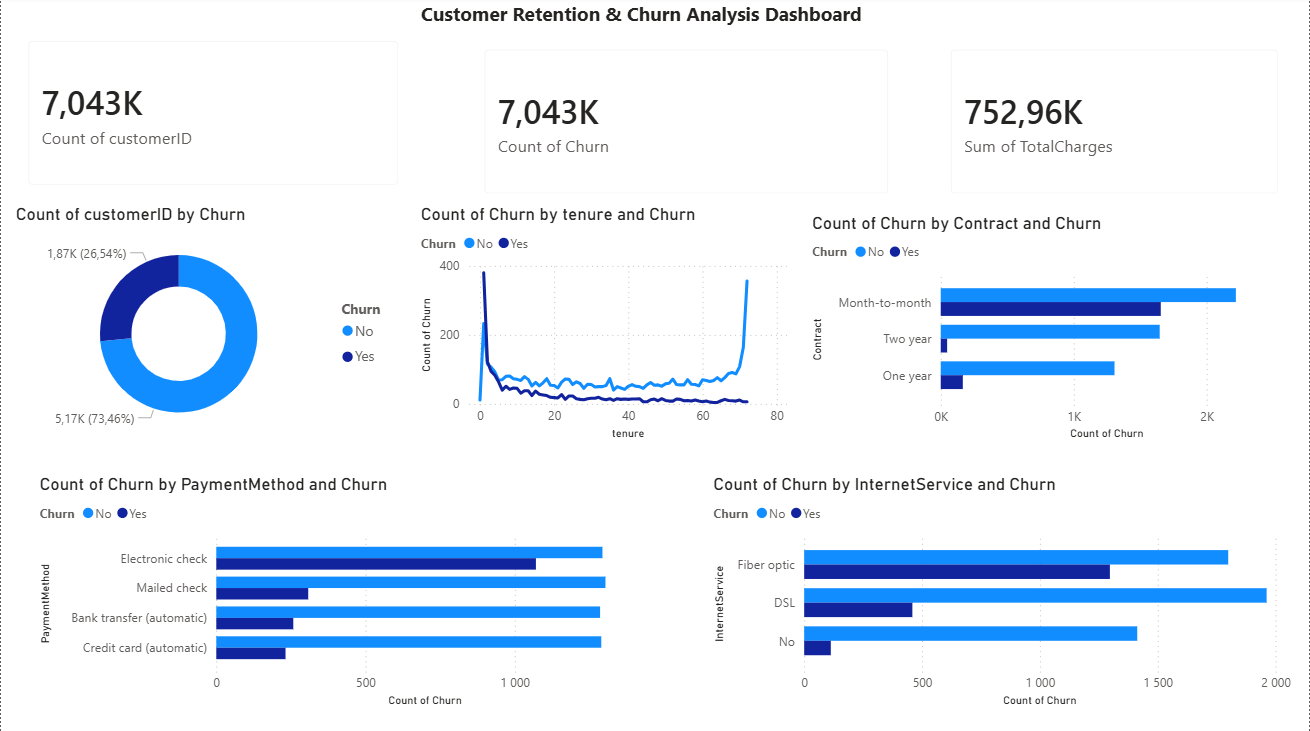

Layout of this report page (visuals, bound fields, positions):
{"tool":"powerbi","page":{"name":"Churn Dashboard","canvas":[1280,720],"ordinal":0},"visuals":[{"type":"cardVisual","fields":{"Data":["Count(WA_Fn-UseC_-Telco-Customer-Churn.customerID)"]},"box":[9.6,27.4,396.6,175.6],"z":0},{"type":"cardVisual","fields":{"Data":["CountNonNull(WA_Fn-UseC_-Telco-Customer-Churn.Churn)"]},"box":[455.6,35.7,429.5,175.6],"z":1},{"type":"cardVisual","fields":{"Data":["Sum(WA_Fn-UseC_-Telco-Customer-Churn.TotalCharges)"]},"box":[912.5,35.7,354,175.6],"z":2},{"type":"textbox","box":[406.2,0,465.2,35.7],"z":3},{"type":"donutChart","fields":{"Category":["WA_Fn-UseC_-Telco-Customer-Churn.Churn"],"Y":["CountNonNull(WA_Fn-UseC_-Telco-Customer-Churn.customerID)"]},"box":[9.8,203,386.4,236],"z":4},{"type":"clusteredBarChart","fields":{"Category":["WA_Fn-UseC_-Telco-Customer-Churn.Contract"],"Y":["CountNonNull(WA_Fn-UseC_-Telco-Customer-Churn.Churn)"],"Series":["WA_Fn-UseC_-Telco-Customer-Churn.Churn"]},"box":[789,211.3,467.9,227.8],"z":5},{"type":"lineChart","fields":{"Category":["WA_Fn-UseC_-Telco-Customer-Churn.tenure"],"Y":["CountNonNull(WA_Fn-UseC_-Telco-Customer-Churn.Churn)"],"Series":["WA_Fn-UseC_-Telco-Customer-Churn.Churn"]},"box":[406,203,368.1,236],"z":6},{"type":"clusteredBarChart","fields":{"Category":["WA_Fn-UseC_-Telco-Customer-Churn.PaymentMethod"],"Y":["CountNonNull(WA_Fn-UseC_-Telco-Customer-Churn.Churn)"],"Series":["WA_Fn-UseC_-Telco-Customer-Churn.Churn"]},"box":[32.9,466.6,606.5,233.3],"z":7},{"type":"clusteredBarChart","fields":{"Category":["WA_Fn-UseC_-Telco-Customer-Churn.InternetService"],"Y":["CountNonNull(WA_Fn-UseC_-Telco-Customer-Churn.Churn)"],"Series":["WA_Fn-UseC_-Telco-Customer-Churn.Churn"]},"box":[691.6,466.6,575,233.3],"z":8}]}

Visuals, with their boxes in screenshot pixels (x1, y1, x2, y2), scaled from the page's 1280x720 canvas onto the 1310x731 screenshot:
cardVisual - Count(WA_Fn-UseC_-Telco-Customer-Churn.customerID): <region>10, 28, 416, 206</region>
cardVisual - CountNonNull(WA_Fn-UseC_-Telco-Customer-Churn.Churn): <region>466, 36, 906, 215</region>
cardVisual - Sum(WA_Fn-UseC_-Telco-Customer-Churn.TotalCharges): <region>934, 36, 1296, 215</region>
textbox: <region>416, 0, 892, 36</region>
donutChart - WA_Fn-UseC_-Telco-Customer-Churn.Churn x CountNonNull(WA_Fn-UseC_-Telco-Customer-Churn.customerID): <region>10, 206, 405, 446</region>
clusteredBarChart - WA_Fn-UseC_-Telco-Customer-Churn.Contract x CountNonNull(WA_Fn-UseC_-Telco-Customer-Churn.Churn): <region>807, 215, 1286, 446</region>
lineChart - WA_Fn-UseC_-Telco-Customer-Churn.tenure x CountNonNull(WA_Fn-UseC_-Telco-Customer-Churn.Churn): <region>416, 206, 792, 446</region>
clusteredBarChart - WA_Fn-UseC_-Telco-Customer-Churn.PaymentMethod x CountNonNull(WA_Fn-UseC_-Telco-Customer-Churn.Churn): <region>34, 474, 654, 711</region>
clusteredBarChart - WA_Fn-UseC_-Telco-Customer-Churn.InternetService x CountNonNull(WA_Fn-UseC_-Telco-Customer-Churn.Churn): <region>708, 474, 1296, 711</region>
